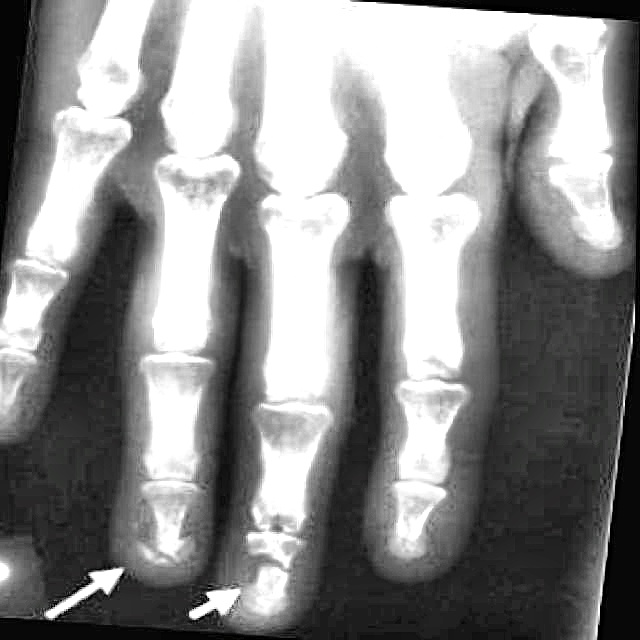Comminuted: (130, 506, 200, 571)
Segmental: (231, 493, 315, 617)
